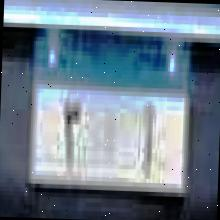3: (58, 97, 82, 169)
alif: (133, 100, 158, 183)
